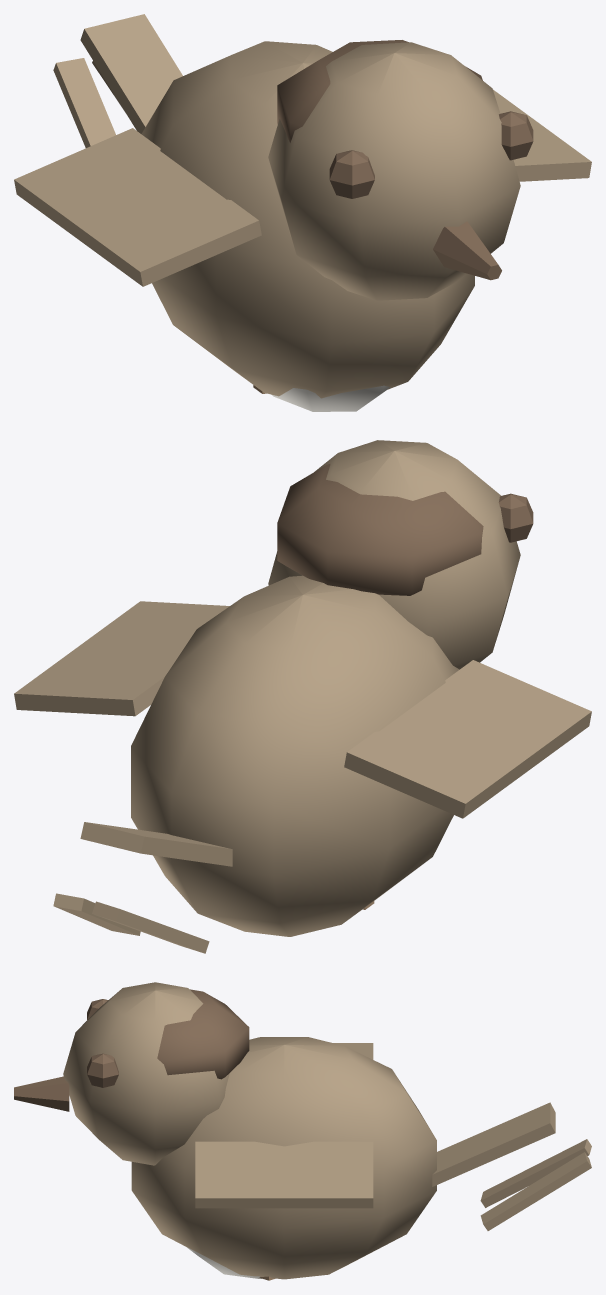
The model's file is critter_sparrow.glb.
3 views of the same model, one above another, from view 1: azimuth 30°, elevation 25°; view 2: azimuth 150°, elevation 25°; view 3: azimuth 270°, elevation 25° (orthographic). The views are drawn at different scales.
Parts seen in each view (by area): view 1: Sparrow_Body, Sparrow_Head, Sparrow_Wing0, Sparrow_TailC, Sparrow_Wing1, Sparrow_Cap, Sparrow_TailF-1, Sparrow_Beak, Sparrow_EyeL, Sparrow_Belly, Sparrow_EyeR; view 2: Sparrow_Body, Sparrow_Wing0, Sparrow_Head, Sparrow_Cap, Sparrow_Wing1, Sparrow_TailC, Sparrow_TailF-1, Sparrow_EyeL, Sparrow_TailF1; view 3: Sparrow_Body, Sparrow_Head, Sparrow_Wing1, Sparrow_Cap, Sparrow_TailC, Sparrow_TailF1, Sparrow_TailF-1, Sparrow_Beak, Sparrow_EyeR.
Part boxes in pixels (box(x1,y1,x2,y2)): Sparrow_Body: box(141, 41, 474, 398); Sparrow_Head: box(268, 42, 520, 300); Sparrow_Wing0: box(14, 128, 261, 286); Sparrow_TailC: box(80, 14, 182, 133); Sparrow_Wing1: box(493, 89, 591, 181); Sparrow_Cap: box(277, 40, 482, 142); Sparrow_TailF-1: box(53, 58, 115, 147); Sparrow_Beak: box(433, 221, 501, 280); Sparrow_EyeL: box(329, 150, 374, 198); Sparrow_Belly: box(272, 385, 390, 411); Sparrow_EyeR: box(499, 111, 533, 160); Sparrow_Body: box(131, 575, 459, 936); Sparrow_Wing0: box(344, 660, 591, 818); Sparrow_Head: box(268, 440, 520, 669); Sparrow_Cap: box(277, 464, 483, 595); Sparrow_Wing1: box(14, 601, 229, 716); Sparrow_TailC: box(80, 822, 232, 866); Sparrow_TailF-1: box(92, 901, 209, 953); Sparrow_EyeL: box(498, 493, 533, 542); Sparrow_TailF1: box(53, 893, 140, 935); Sparrow_Body: box(131, 1037, 436, 1279); Sparrow_Head: box(63, 982, 229, 1165); Sparrow_Wing1: box(195, 1141, 373, 1208); Sparrow_Cap: box(157, 989, 249, 1079); Sparrow_TailC: box(432, 1102, 555, 1186); Sparrow_TailF1: box(480, 1152, 591, 1230); Sparrow_TailF-1: box(480, 1139, 591, 1207); Sparrow_Beak: box(14, 1076, 69, 1111); Sparrow_EyeR: box(87, 1053, 118, 1087).
Size of the model in its own units: 0.1197 by 0.1014 by 0.1881.
